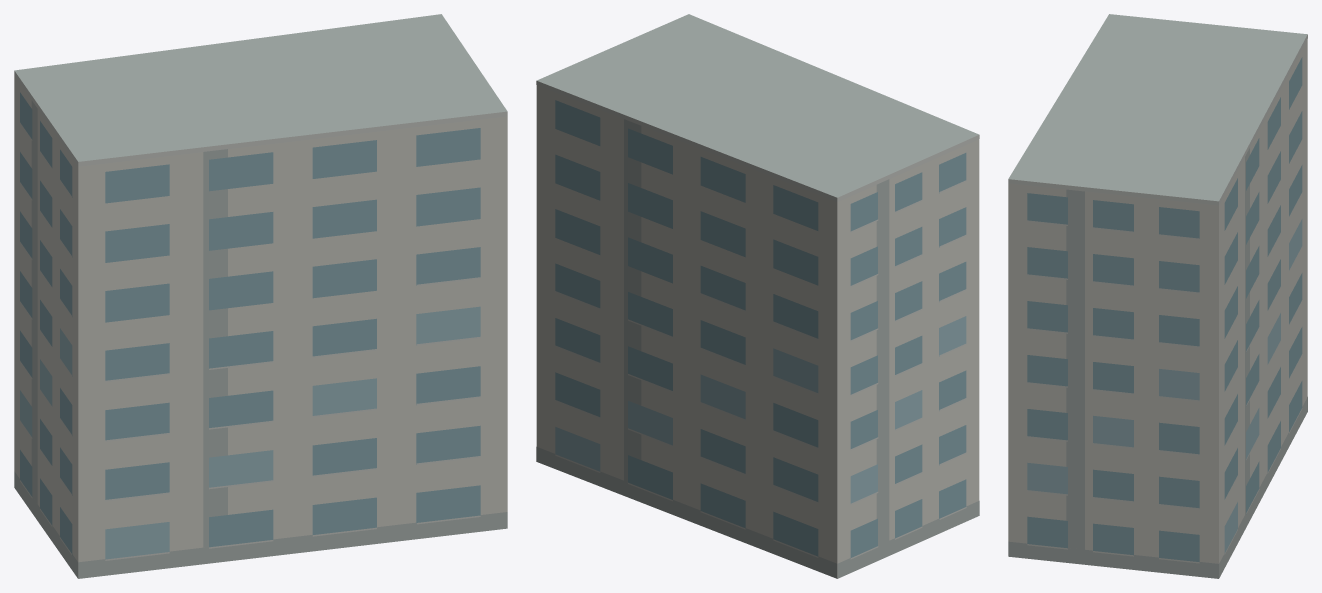
File: survey-upis-32856094.glb
3 renders of one model, left to right at view 1: azimuth 30°, elevation 25°; view 2: azimuth 150°, elevation 25°; view 3: azimuth 270°, elevation 25°, orthographic. The views are drawn at different scales.
Parts seen in each view (by area): view 1: survey-upis-32856094.tmp; view 2: survey-upis-32856094.tmp; view 3: survey-upis-32856094.tmp.
Part boxes in pixels (left/top/right/bottom): survey-upis-32856094.tmp: left=14, top=14, right=507, bottom=578; survey-upis-32856094.tmp: left=536, top=14, right=979, bottom=578; survey-upis-32856094.tmp: left=1008, top=14, right=1307, bottom=578.
Size of the model in its own units: 22.89 by 21.5 by 15.47.
